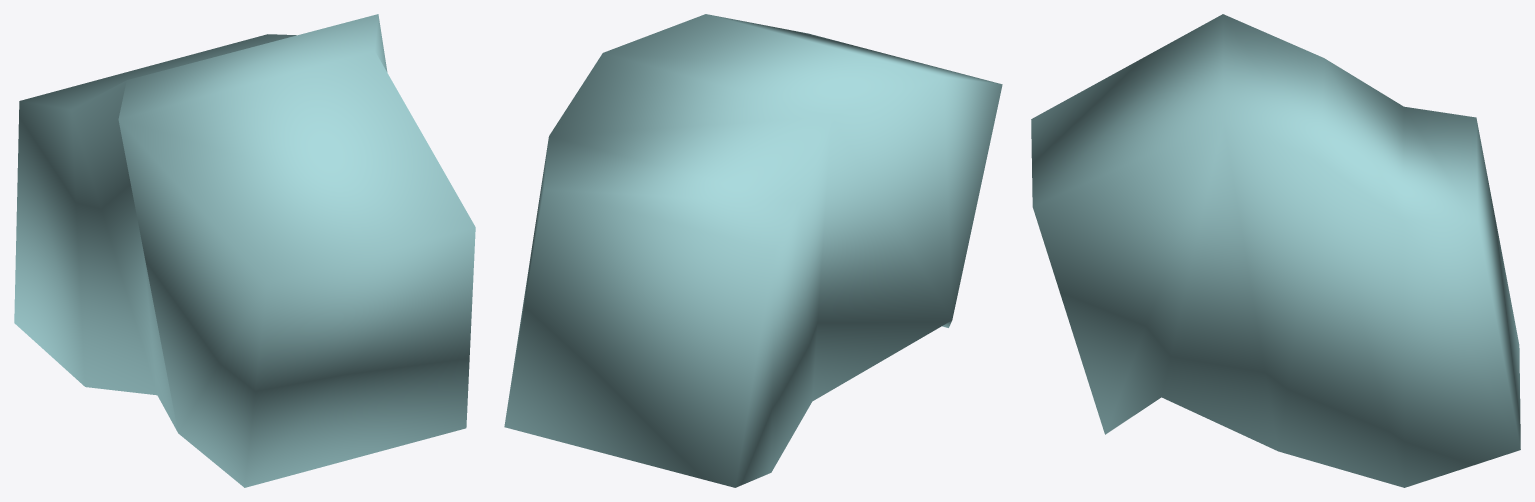
The model's file is Skelly_heel.02.L.fbx.
3 renders of one model, left to right at view 1: azimuth 30°, elevation 25°; view 2: azimuth 150°, elevation 25°; view 3: azimuth 270°, elevation 25°, orthographic. The views are drawn at different scales.
Visible parts, largest first — view 1: Skelly_heel.02.L; view 2: Skelly_heel.02.L; view 3: Skelly_heel.02.L.
Part boxes in pixels (x1,y1,x2,y2): Skelly_heel.02.L: (14,14,475,487); Skelly_heel.02.L: (504,14,1002,487); Skelly_heel.02.L: (1031,14,1520,487).
Bounding box in the file's own units: 6.49 × 6.61 × 8.75.
